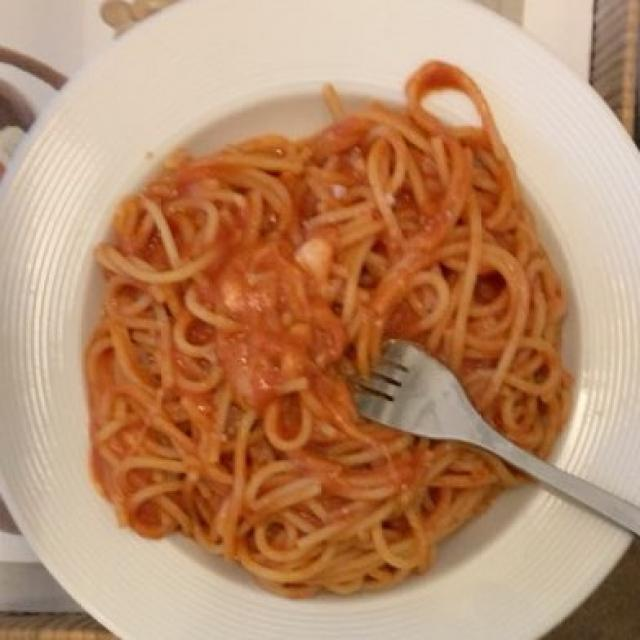pasta: (96, 92, 567, 588)
tomato-sauce: (153, 166, 471, 529)
